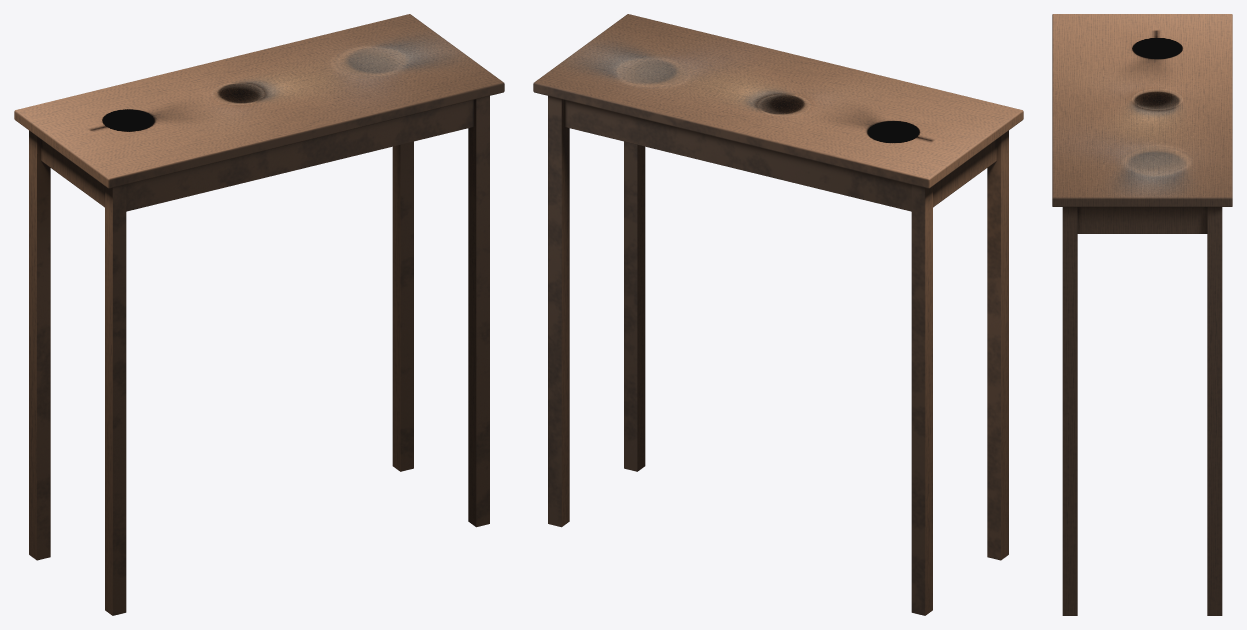
3 views of the same model, side by side, from view 1: azimuth 30°, elevation 25°; view 2: azimuth 150°, elevation 25°; view 3: azimuth 270°, elevation 25° (orthographic). The views are drawn at different scales.
Visible parts, largest first — view 1: Table; view 2: Table; view 3: Table.
Boxes of the visible parts, left/top/right/bottom form: Table: left=14, top=14, right=504, bottom=615; Table: left=533, top=14, right=1023, bottom=615; Table: left=1052, top=14, right=1232, bottom=615.
Size of what is drawn, in the model's own units: 2.9 by 3.1 by 1.2.
Materials: 1 (1 with a texture image).
